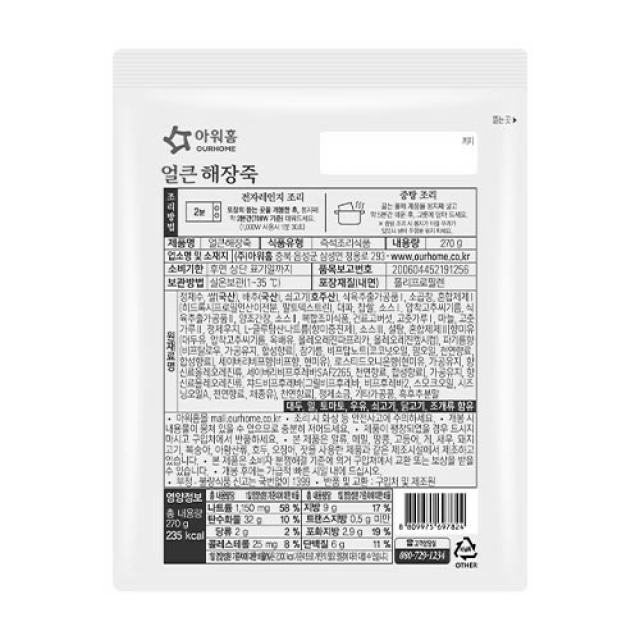Nutrition Label: (160, 482, 395, 575)
